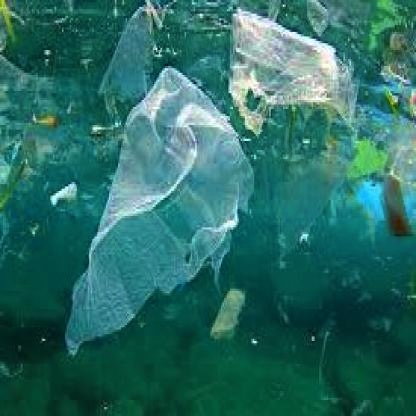pbag: (59, 68, 257, 359), (227, 4, 352, 146)
